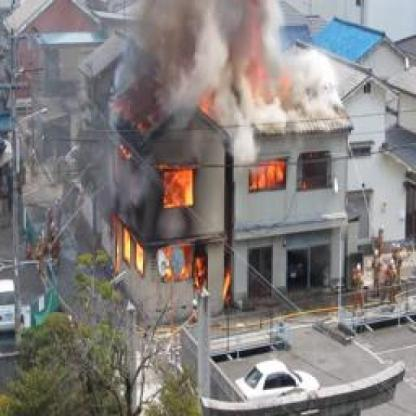fire: (235, 14, 302, 110), (161, 165, 197, 207), (248, 156, 285, 192), (194, 256, 208, 292), (222, 268, 235, 301), (122, 225, 132, 264), (134, 244, 144, 275)
